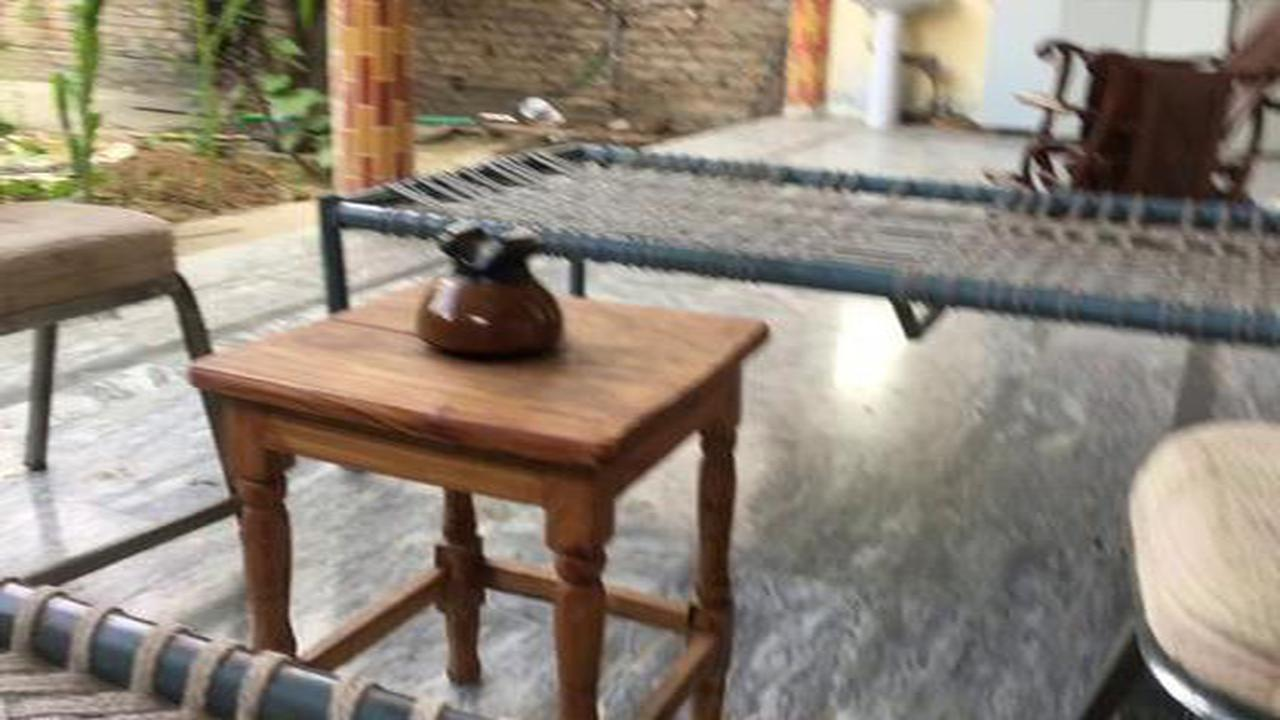insulator_pin: (394, 201, 594, 367)
